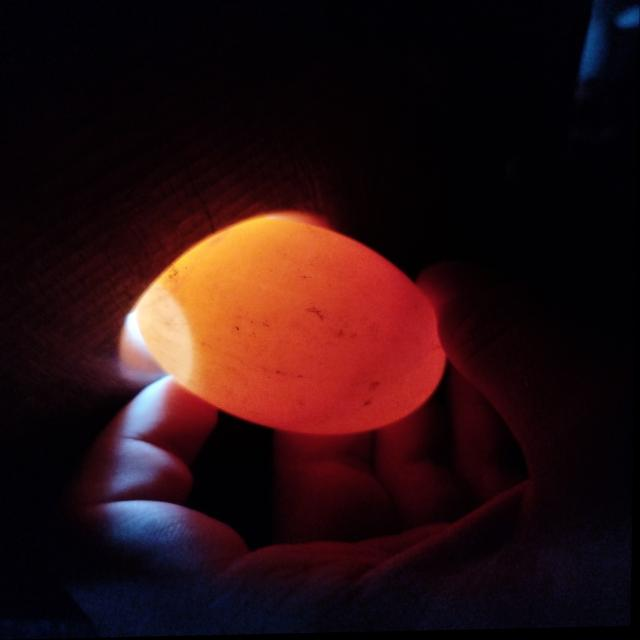Camara de Ar: (137, 283, 198, 387)
